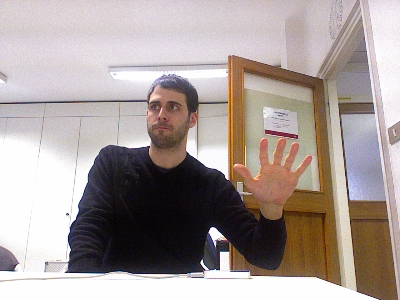布: (231, 136, 313, 208)
